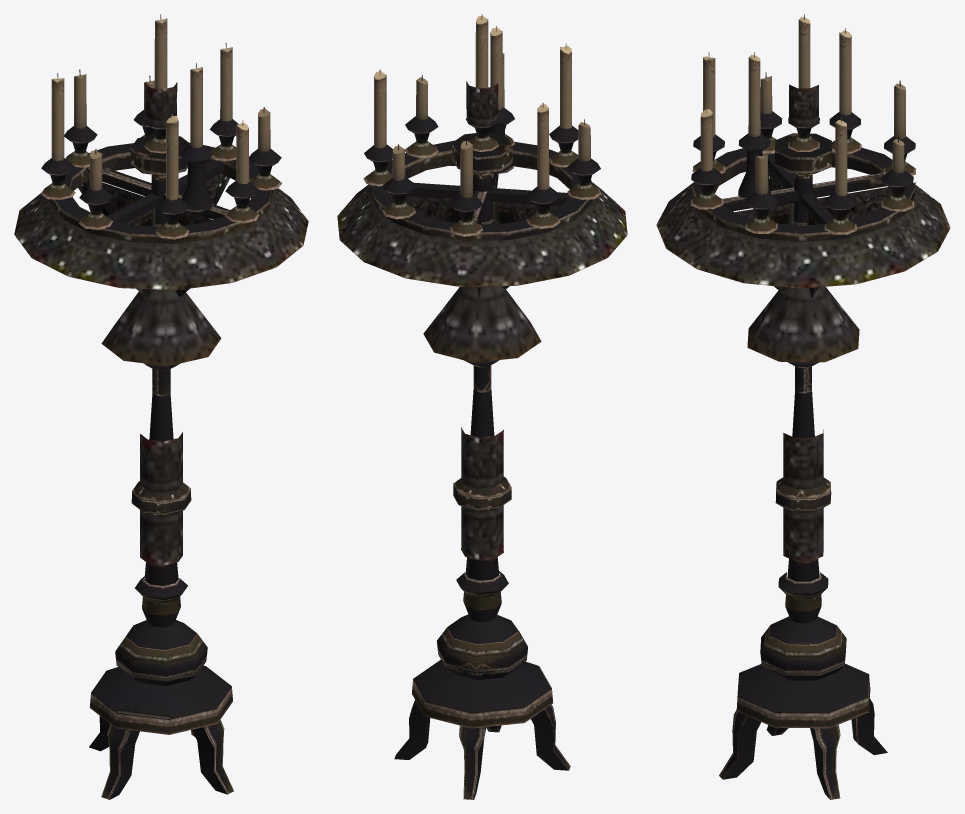
The model's file is o_mdl_env_propCandleStandA-transformed.glb.
3 views of the same model, side by side, from view 1: azimuth 30°, elevation 25°; view 2: azimuth 150°, elevation 25°; view 3: azimuth 270°, elevation 25° (orthographic).
Parts seen in each view (by area): view 1: default; view 2: default; view 3: default.
Boxes of the visible parts, x1,y1,x2,y2 form: default: (14, 14, 308, 799); default: (337, 14, 627, 799); default: (656, 14, 950, 799).
Size of the model in its own units: 0.7125 by 2 by 0.7124.
2 materials, 2 textured.
